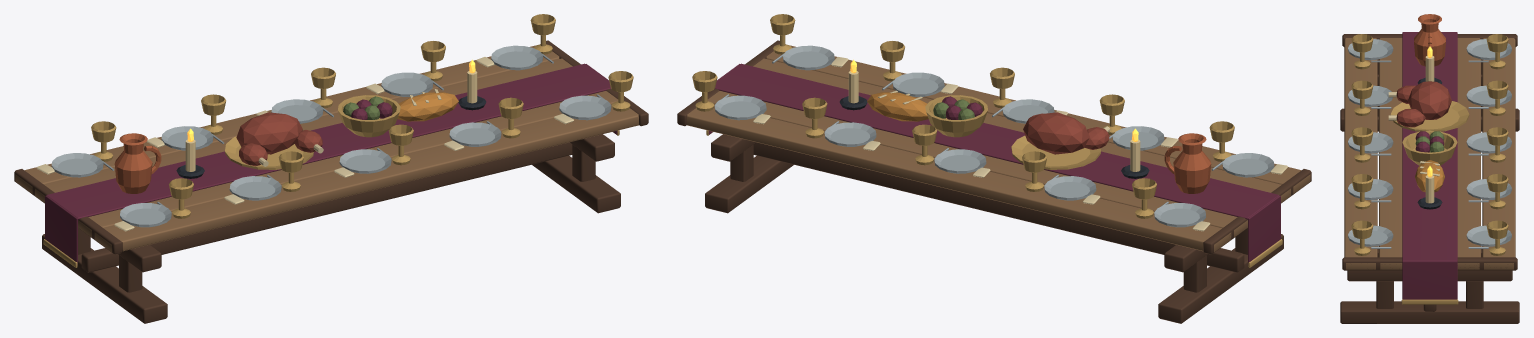
File: feast_table_full.glb
3 views of the same model, side by side, from view 1: azimuth 30°, elevation 25°; view 2: azimuth 150°, elevation 25°; view 3: azimuth 270°, elevation 25° (orthographic). The views are drawn at different scales.
Parts seen in each view (by area): view 1: feast_table_full; view 2: feast_table_full; view 3: feast_table_full.
Part boxes in pixels (x1,y1,x2,y2): feast_table_full: [14, 14, 648, 323]; feast_table_full: [677, 14, 1311, 323]; feast_table_full: [1340, 14, 1519, 323].
Size of the model in its own units: 7.92 by 1.96 by 2.6.
